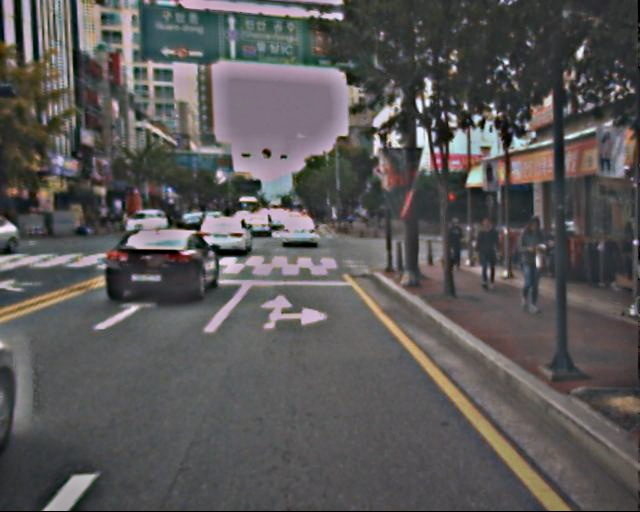person: (513, 215, 554, 315), (474, 217, 505, 292), (443, 216, 469, 275)
